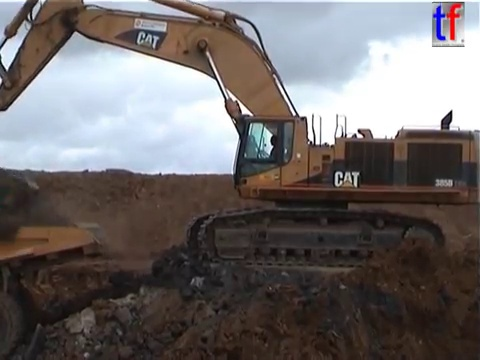excavator: (1, 1, 480, 272)
truck: (1, 217, 105, 360)
